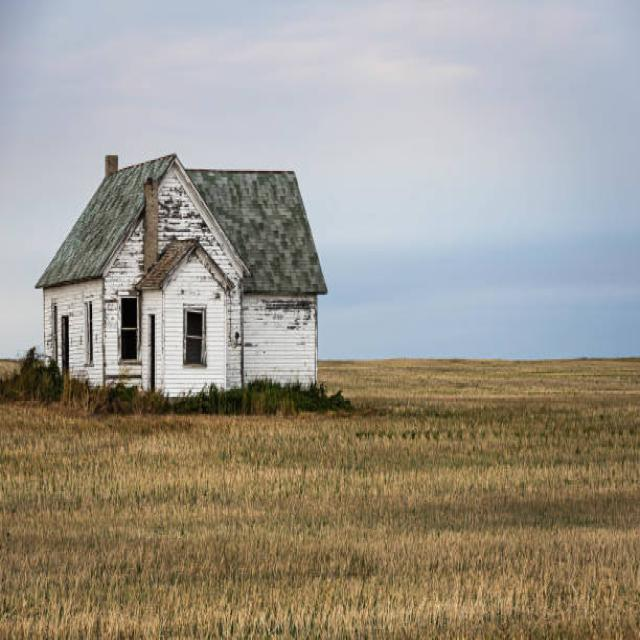House: (38, 150, 330, 410)
